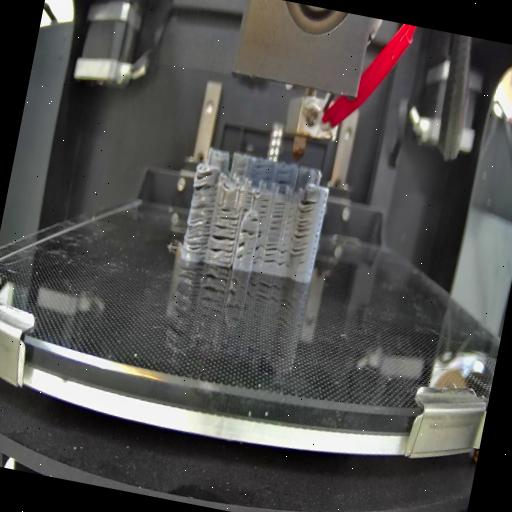cracks: (288, 198, 318, 267), (182, 202, 215, 258), (309, 192, 328, 270), (208, 220, 239, 260), (235, 228, 267, 264), (262, 240, 292, 272), (192, 170, 218, 196), (268, 200, 286, 236), (252, 163, 274, 184), (218, 208, 240, 224), (242, 190, 254, 214), (258, 198, 270, 220), (245, 212, 262, 226), (235, 164, 249, 178), (275, 178, 294, 188), (276, 168, 294, 176)
